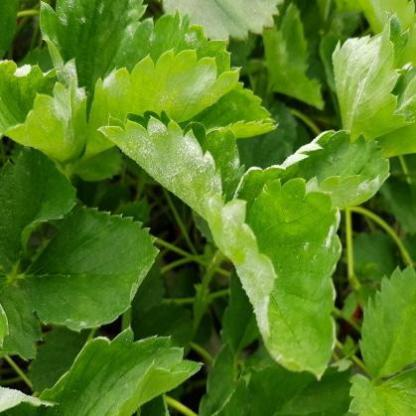Strawberry_Powdery_Mildew_Leaf: (206, 176, 344, 382), (84, 9, 242, 162), (95, 110, 246, 223), (230, 129, 393, 211), (40, 0, 148, 115), (331, 11, 415, 138), (0, 59, 88, 164)
